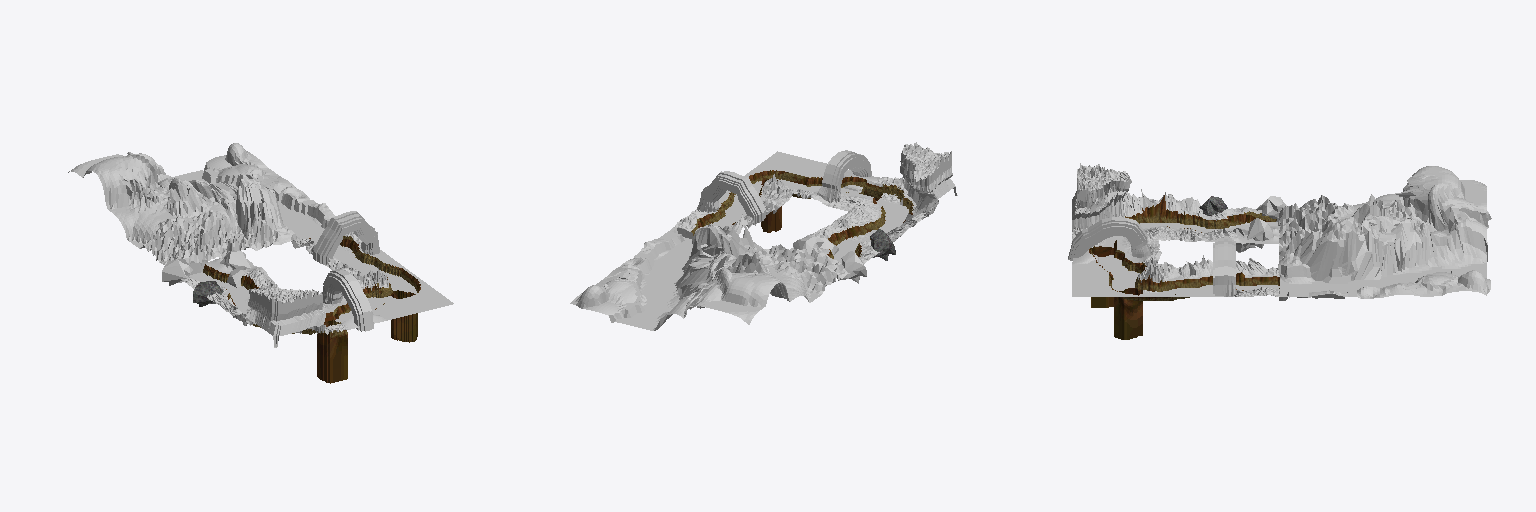
3 views of the same model, side by side, from view 1: azimuth 30°, elevation 25°; view 2: azimuth 150°, elevation 25°; view 3: azimuth 270°, elevation 25° (orthographic).
Visible parts, largest first — view 1: Plane, Icosphere.002; view 2: Plane; view 3: Plane.
Part boxes in pixels (bbox=[...]): Plane: bbox=[68, 143, 453, 383]; Icosphere.002: bbox=[162, 259, 192, 285]; Plane: bbox=[570, 142, 957, 330]; Plane: bbox=[1068, 163, 1491, 339].
Bounding box in the file's own units: 118 × 62.48 × 224.
Materials: 5 (3 with a texture image).